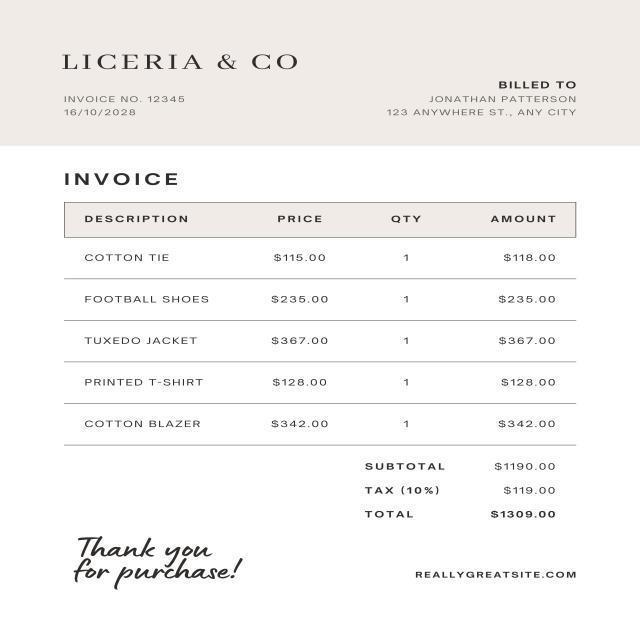ROI: (57, 199, 611, 446), (352, 457, 587, 535), (380, 67, 592, 125), (77, 530, 257, 598), (55, 46, 316, 81), (60, 90, 208, 126), (413, 556, 573, 589), (62, 165, 196, 190)
